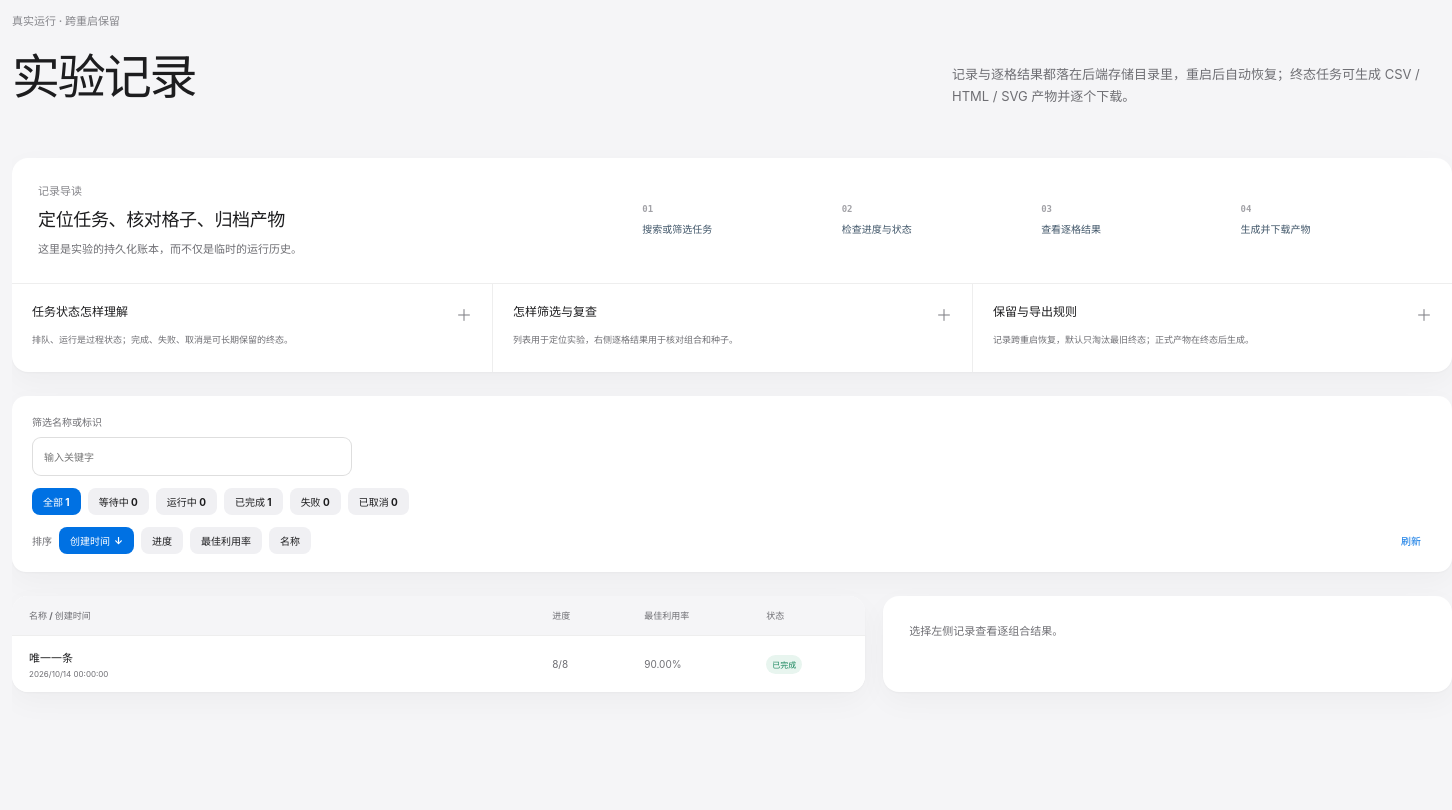
Test: RecordsView › 没有符合筛选条件的记录时给出空状态而不是空白列表
This screenshot has width=1452, height=810.
In the field labelled "筛选名称或标识": (192, 457) x1=32 y1=437 x2=352 y2=476, type "不存在"
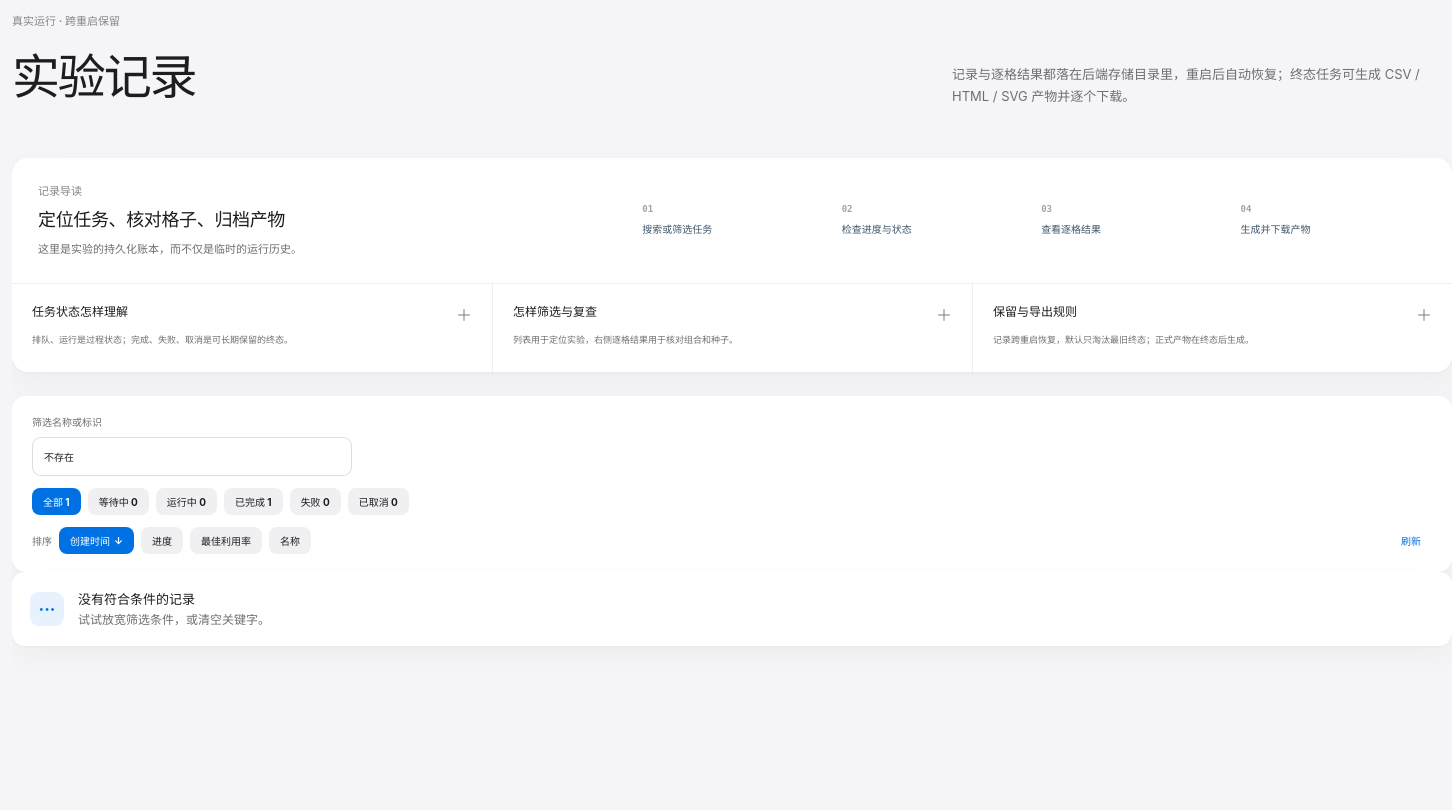
Now the text "没有符合条件的记录" is shown, box x1=78 y1=591 x2=195 y2=607
